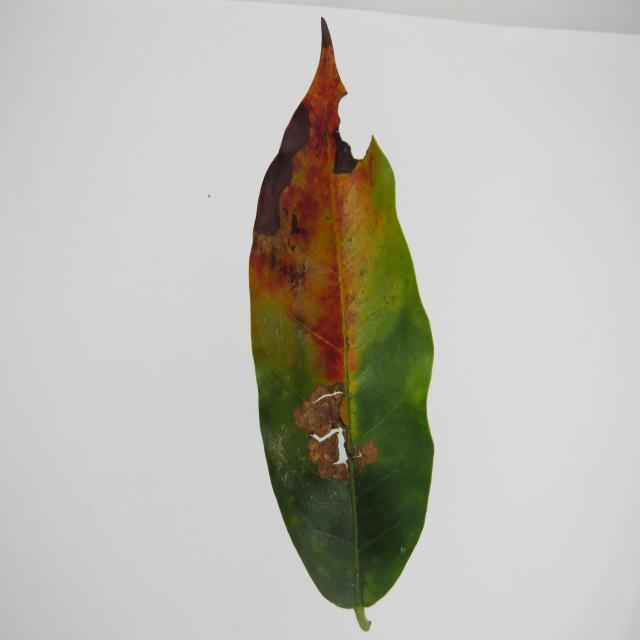DeficienciaNutricional-Fosforo: (249, 20, 434, 630)
